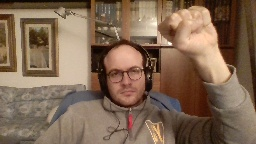Pugno: (155, 3, 219, 55)
